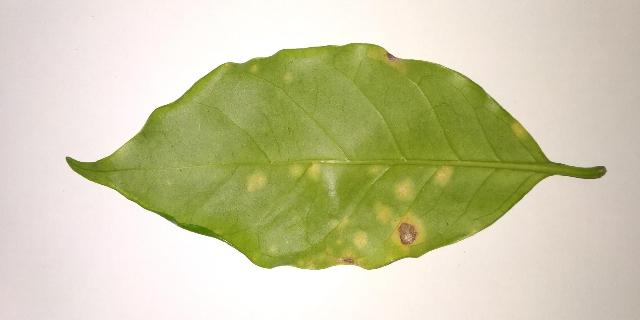miner: (377, 205, 425, 256), (320, 249, 375, 269), (380, 48, 404, 71), (247, 174, 265, 193), (330, 215, 350, 231), (353, 232, 368, 249), (396, 181, 411, 198), (437, 166, 451, 182), (512, 122, 527, 136), (308, 162, 320, 178), (368, 165, 385, 176), (299, 259, 316, 269), (290, 165, 302, 176)
